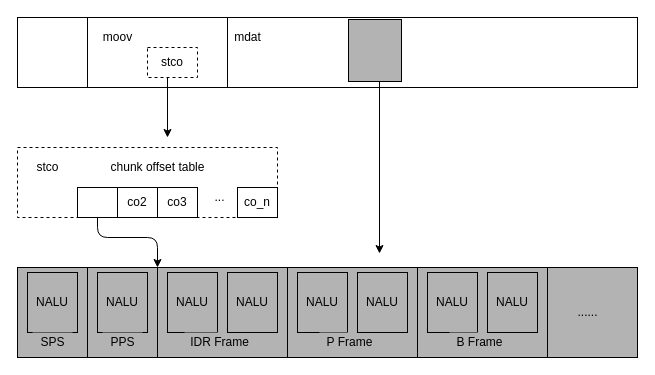
This 655x375 diagram has some shape labels left out. The centre of each missing label's shape, as x and y in pixels:
co1: point 97,202
ftyp: point 52,52
